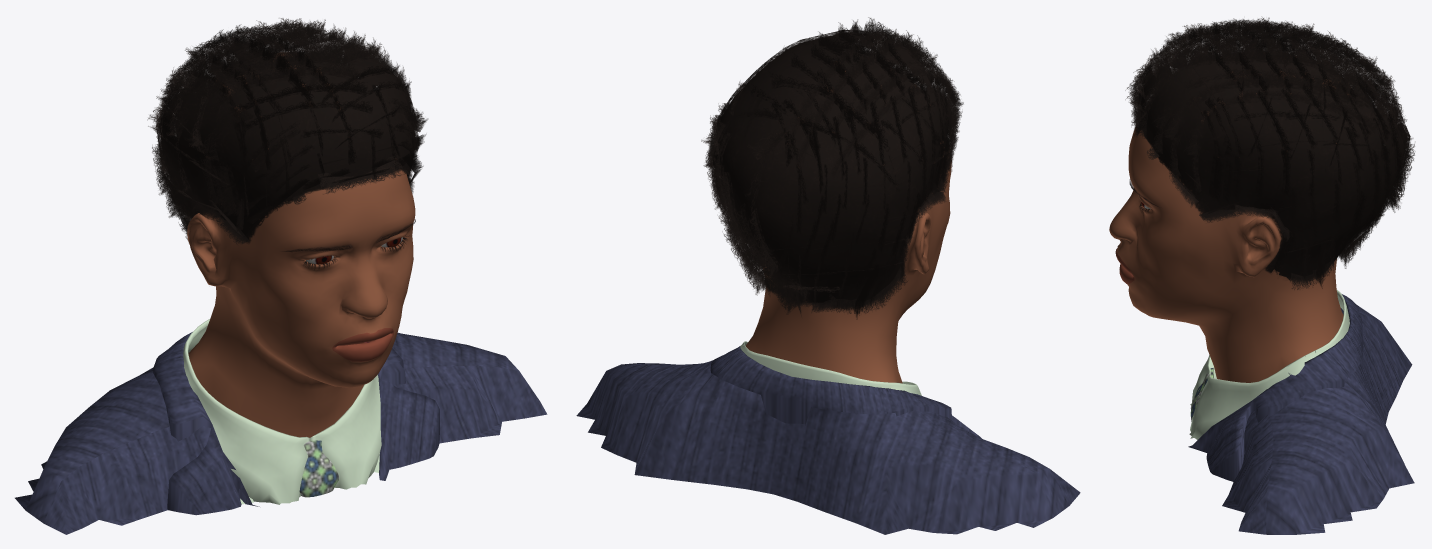
The model's file is man-02.glb.
3 views of the same model, side by side, from view 1: azimuth 30°, elevation 25°; view 2: azimuth 150°, elevation 25°; view 3: azimuth 270°, elevation 25° (orthographic). The views are drawn at different scales.
Parts seen in each view (by area): view 1: mpfb-face.toigo_male_double-breasted_suit, mpfb-face, mpfb-face.afro01; view 2: mpfb-face.toigo_male_double-breasted_suit, mpfb-face.afro01, mpfb-face; view 3: mpfb-face.afro01, mpfb-face.toigo_male_double-breasted_suit, mpfb-face.
Boxes of the visible parts, x1,y1,x2,y2 form: mpfb-face.toigo_male_double-breasted_suit: [15, 319, 547, 534]; mpfb-face: [187, 52, 415, 437]; mpfb-face.afro01: [147, 18, 427, 244]; mpfb-face.toigo_male_double-breasted_suit: [576, 341, 1080, 534]; mpfb-face.afro01: [701, 17, 963, 319]; mpfb-face: [746, 71, 951, 383]; mpfb-face.afro01: [1125, 17, 1415, 289]; mpfb-face.toigo_male_double-breasted_suit: [1188, 290, 1414, 534]; mpfb-face: [1109, 71, 1348, 382].
Size of the model in its own units: 0.4338 by 0.3598 by 0.2545.
9 materials, 7 textured.
